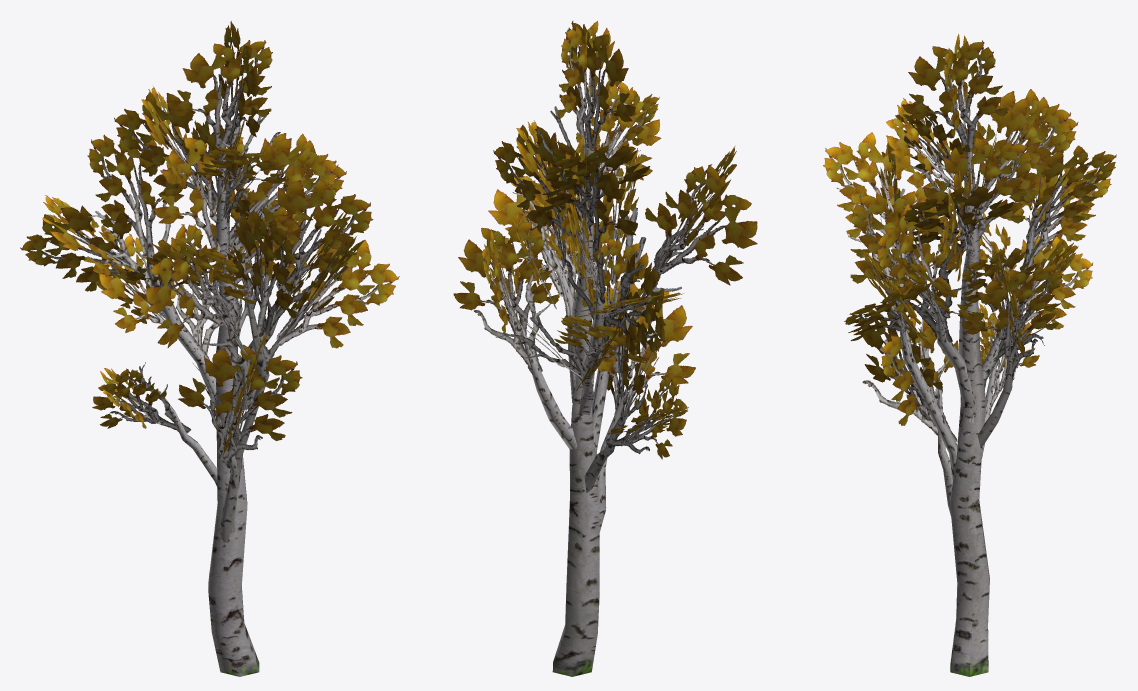
The model's file is furni_0200804.FBX.
The picture shows the model from 3 angles, left to right: view 1: azimuth 30°, elevation 25°; view 2: azimuth 150°, elevation 25°; view 3: azimuth 270°, elevation 25°; orthographic projection. The views are drawn at different scales.
Parts seen in each view (by area): view 1: furni_0200804; view 2: furni_0200804; view 3: furni_0200804.
Part boxes in pixels (x1,y1,x2,y2): furni_0200804: [20, 21, 399, 676]; furni_0200804: [453, 21, 757, 676]; furni_0200804: [823, 34, 1116, 676].
Bounding box in the file's own units: 279 × 601 × 265.
Materials: 1 (1 with a texture image).
